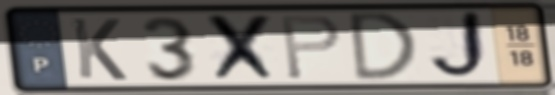3: (139, 15, 200, 83)
D: (347, 10, 421, 84)
J: (425, 9, 492, 84)
K: (68, 16, 131, 83)
P: (278, 13, 344, 82)
X: (204, 11, 283, 85)
